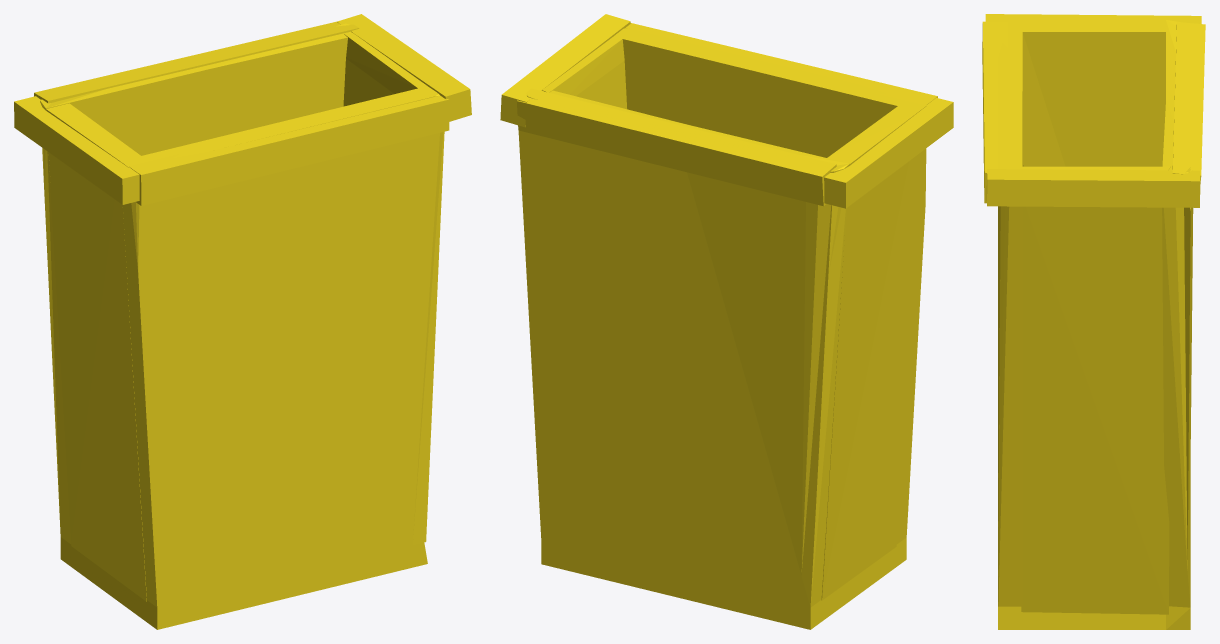
The model's file is bin_yellow.glb.
3 views of the same model, side by side, from view 1: azimuth 30°, elevation 25°; view 2: azimuth 150°, elevation 25°; view 3: azimuth 270°, elevation 25° (orthographic).
Visible parts, largest first — view 1: group954169556.001; view 2: group954169556.001; view 3: group954169556.001.
Part boxes in pixels (<box>): group954169556.001: <box>14,14,471,629</box>; group954169556.001: <box>500,14,953,629</box>; group954169556.001: <box>982,14,1205,629</box>.
Bounding box in the file's own units: 2.66 × 3.41 × 1.48.
